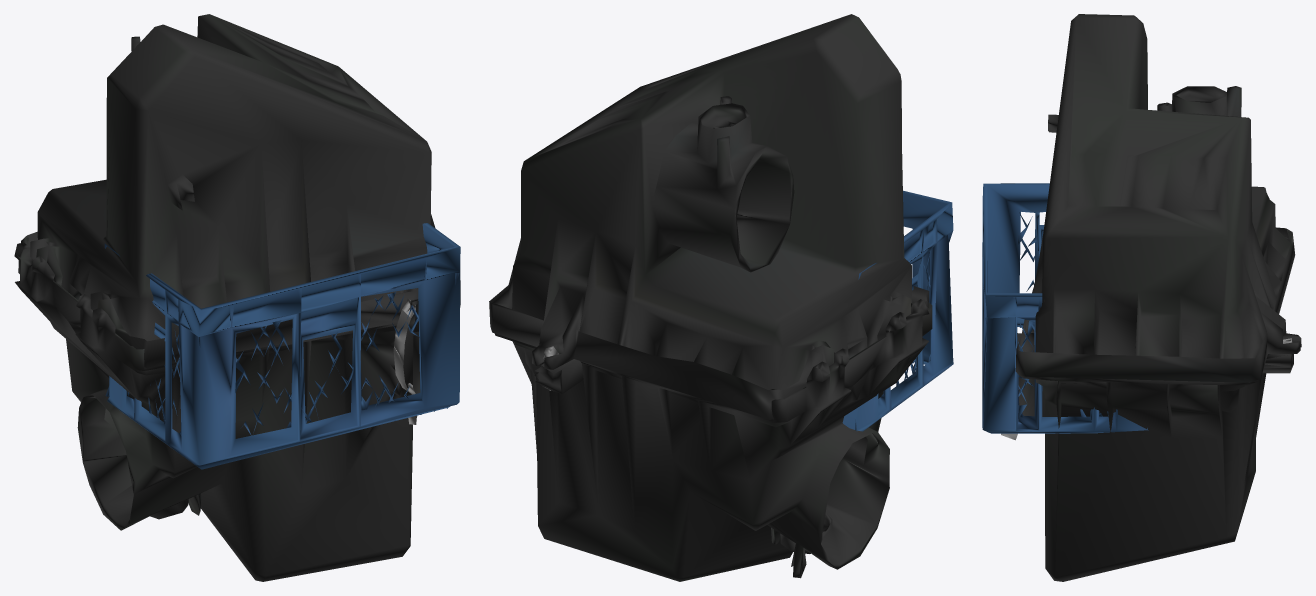
File: icemaker.glb
3 renders of one model, left to right at view 1: azimuth 30°, elevation 25°; view 2: azimuth 150°, elevation 25°; view 3: azimuth 270°, elevation 25°, orthographic. The views are drawn at different scales.
Parts seen in each view (by area): view 1: geometry_0; view 2: geometry_0; view 3: geometry_0.
Boxes of the visible parts, x1,y1,x2,y2 form: geometry_0: (14,14,460,581); geometry_0: (489,14,953,581); geometry_0: (982,14,1301,581).
Bounding box in the file's own units: 0.9166 × 1.42 × 0.8536.
